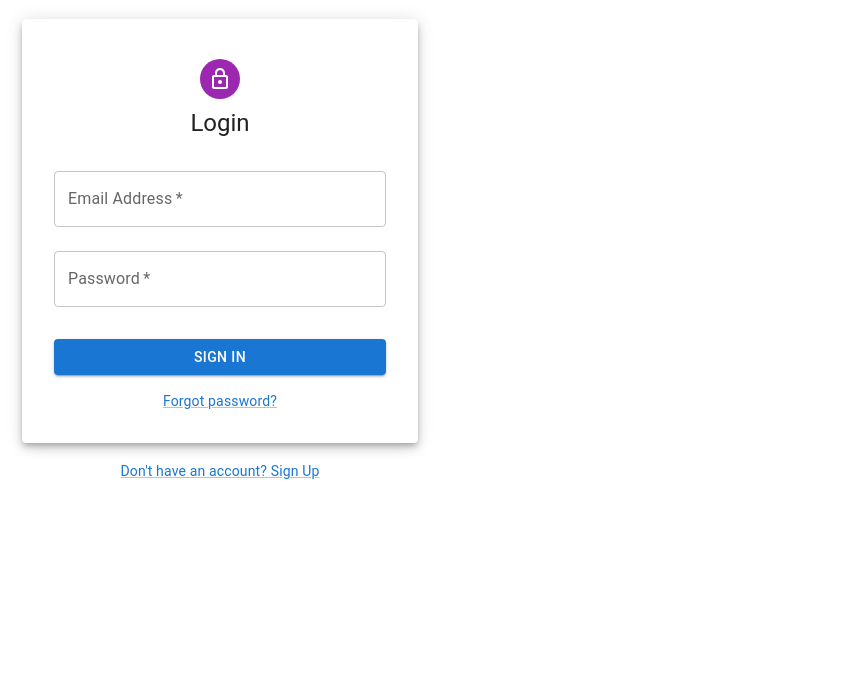
SignIn Page › closes snackbar when close button is clicked
# Trigger error to show snackbar
Click the button "Sign In".
click(220, 357)  # box [54,339,386,375]
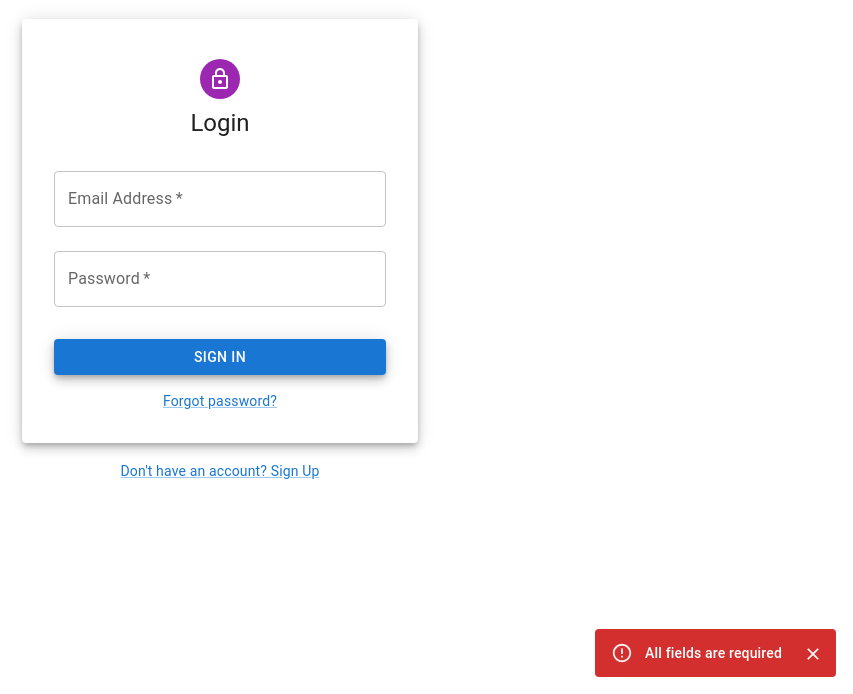
Expected: the text "All fields are required" is shown, [645,645,782,661]
# Click close button on snackbar
Click the button named "close".
click(813, 654)  # box [798,639,828,669]
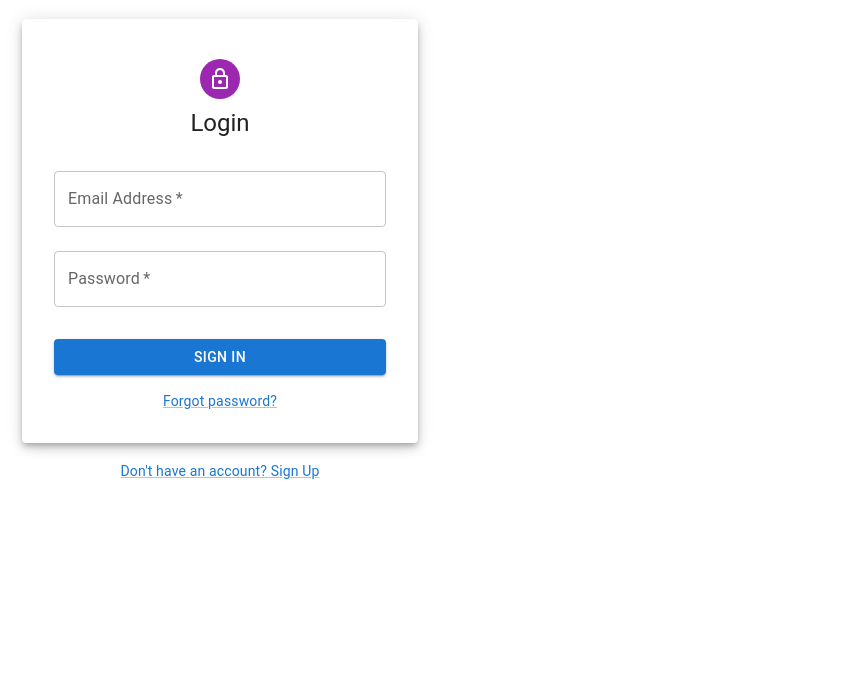
Expected: the text "All fields are required" is gone
